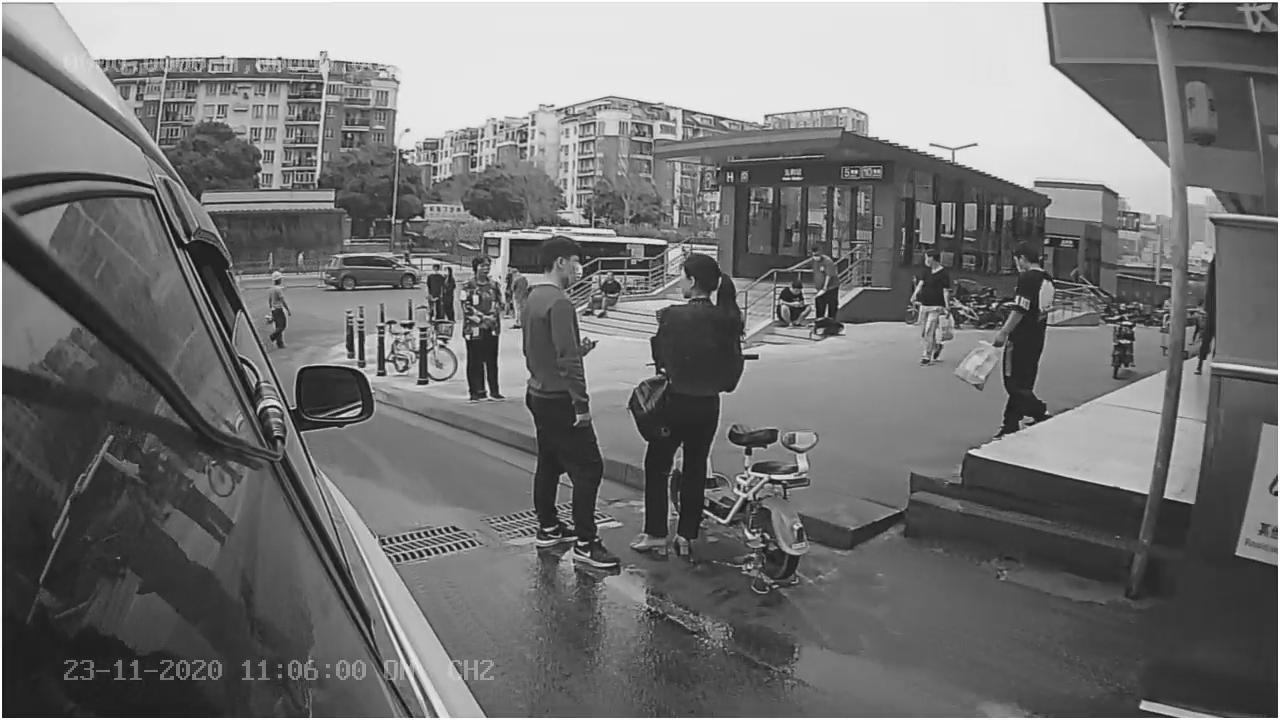person: (512, 236, 624, 572)
